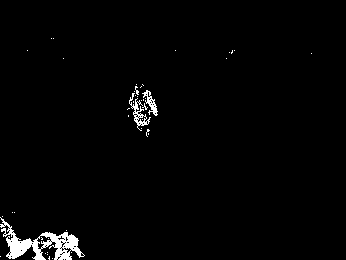person: (127, 80, 159, 139)
